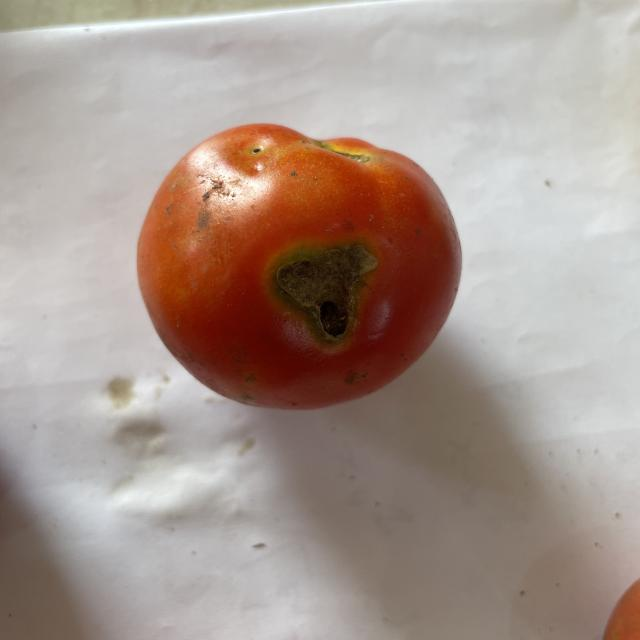fruitworm_bore: (270, 232, 383, 344)
